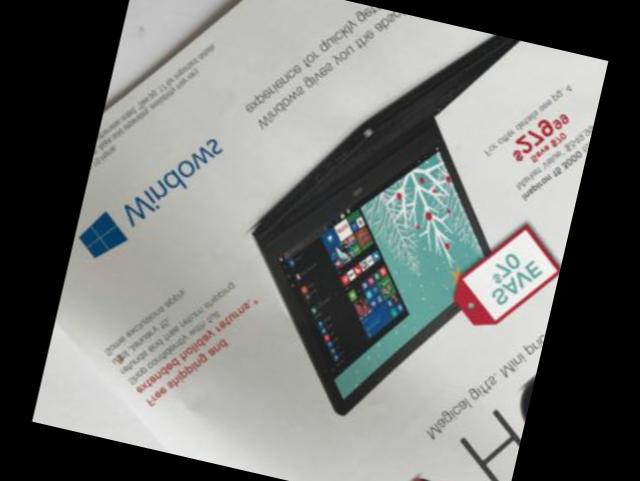cardboard paper: (55, 0, 608, 481)
